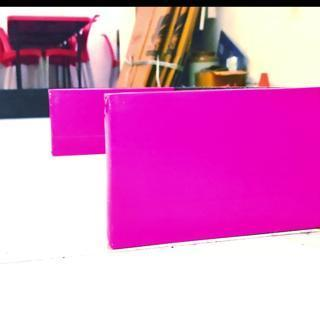xparking: (107, 94, 320, 244), (48, 89, 103, 158)
